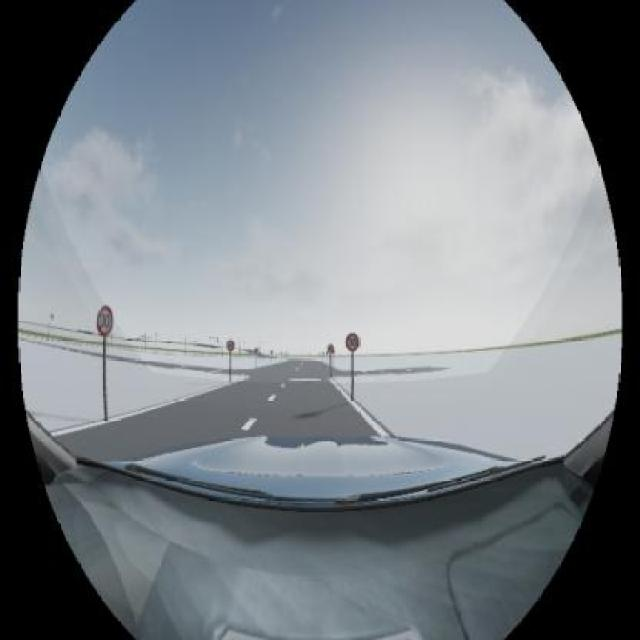forb_speed_over_30: (96, 305, 113, 337), (346, 332, 359, 352)
